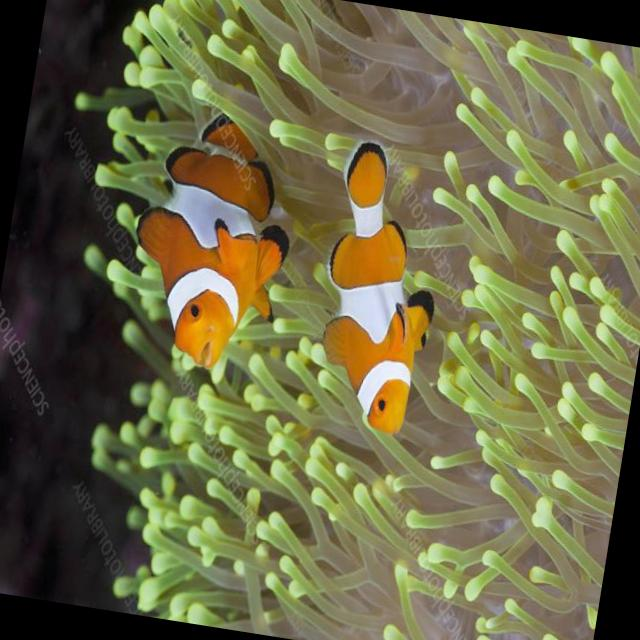ClownFish: (114, 100, 308, 378), (304, 134, 459, 442)
